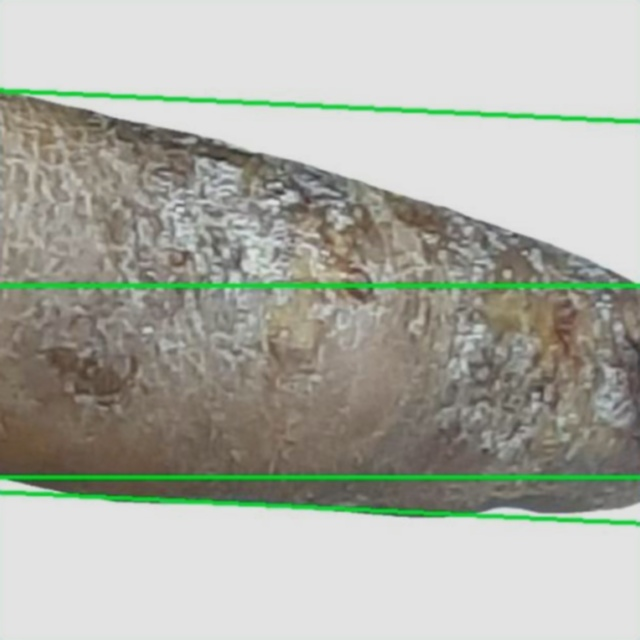Eczema: (0, 91, 639, 523), (0, 0, 639, 285), (0, 477, 639, 639)
